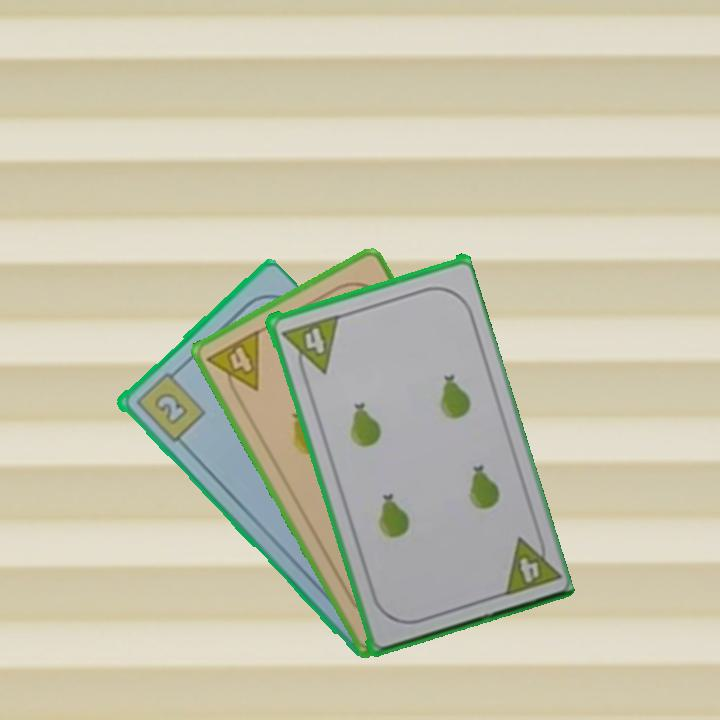2b: (131, 364, 208, 445)
4p: (203, 326, 263, 403), (497, 527, 561, 599), (277, 311, 341, 381)
